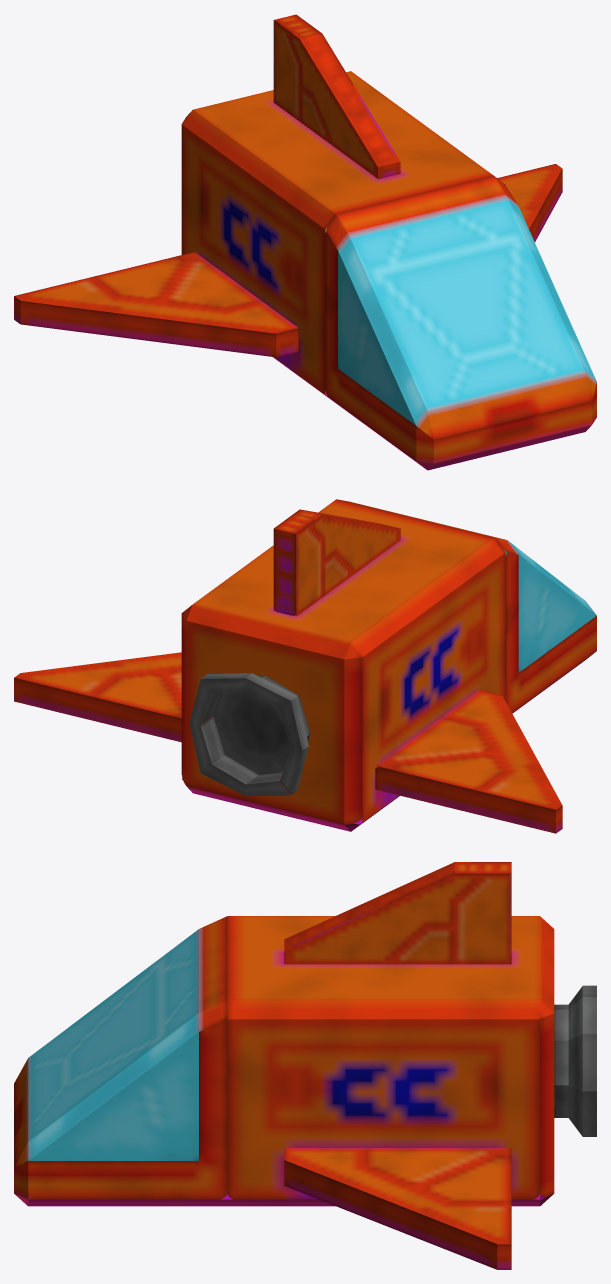
The model's file is Delivery_ship.fbx.
The picture shows the model from 3 angles, top to bottom: view 1: azimuth 30°, elevation 25°; view 2: azimuth 150°, elevation 25°; view 3: azimuth 270°, elevation 25°; orthographic projection. The views are drawn at different scales.
Visible parts, largest first — view 1: Ship base, Wing right, Top wing, Wing left; view 2: Ship base, Wing right, Jet, Wing left, Top wing; view 3: Ship base, Wing left, Top wing, Jet.
Boxes of the visible parts, box(x1,y1,x2,y2) form: Ship base: box(181, 71, 596, 470); Wing right: box(14, 252, 298, 357); Top wing: box(273, 14, 400, 178); Wing left: box(497, 164, 562, 242); Ship base: box(181, 499, 596, 831); Wing right: box(375, 689, 562, 833); Jet: box(189, 673, 310, 796); Wing left: box(14, 652, 181, 742); Top wing: box(273, 509, 400, 616); Ship base: box(14, 916, 554, 1206); Wing left: box(284, 1148, 511, 1269); Top wing: box(284, 862, 511, 964); Jet: box(554, 985, 596, 1136).
Size of the model in its own units: 300 by 156 by 256.
